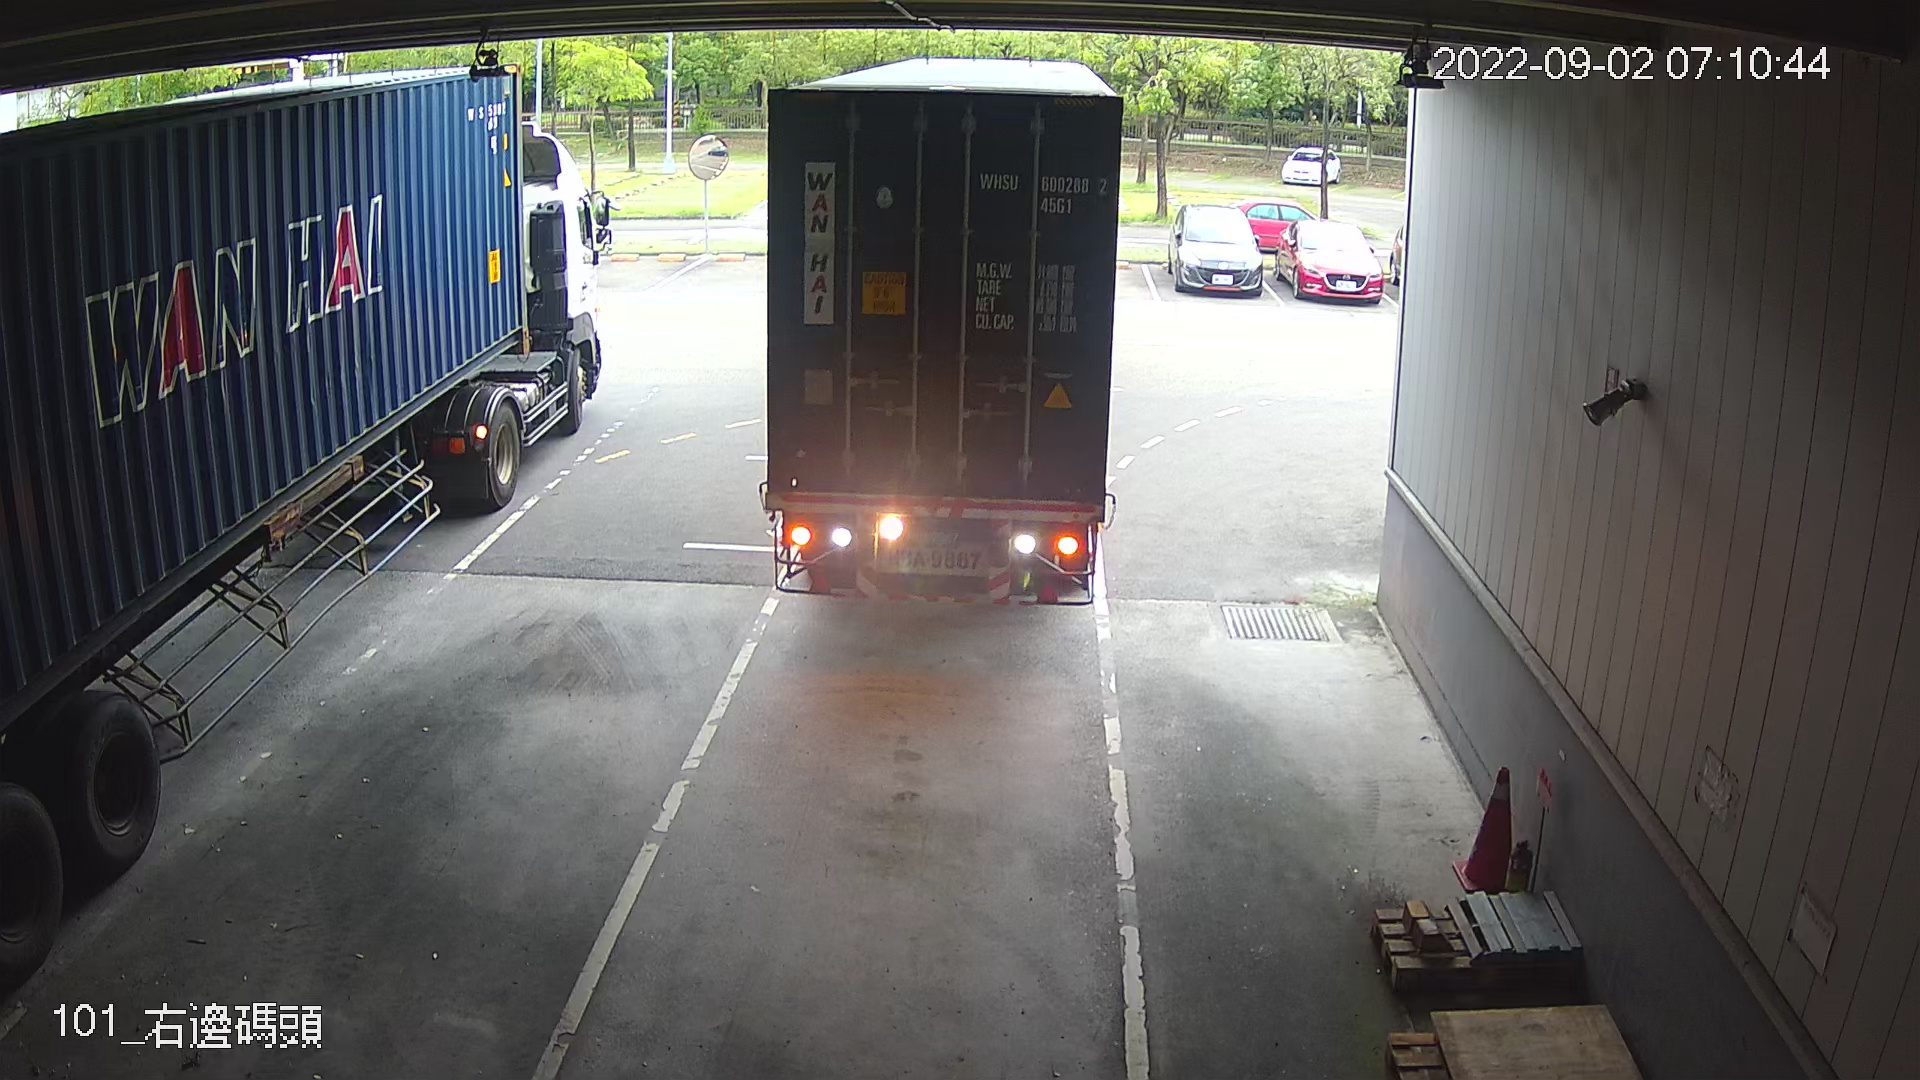container: (971, 161, 1113, 220)
